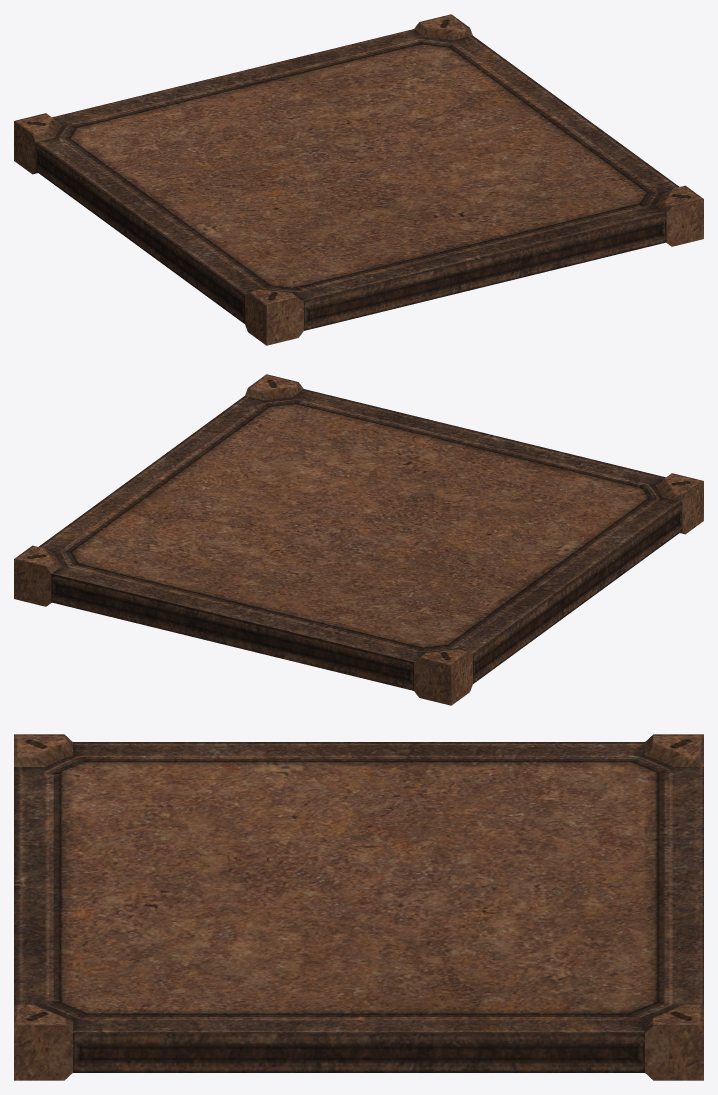
The model's file is catwalk_rusty_4way.dae.
The picture shows the model from 3 angles, top to bottom: view 1: azimuth 30°, elevation 25°; view 2: azimuth 150°, elevation 25°; view 3: azimuth 270°, elevation 25°; orthographic projection. The views are drawn at different scales.
Parts seen in each view (by area): view 1: 4way; view 2: 4way; view 3: 4way.
Part boxes in pixels (x1,y1,x2,y2): 4way: (14,14,703,345); 4way: (14,374,703,705); 4way: (14,734,703,1080).
Size of the model in its own units: 2 by 0.1745 by 2.
